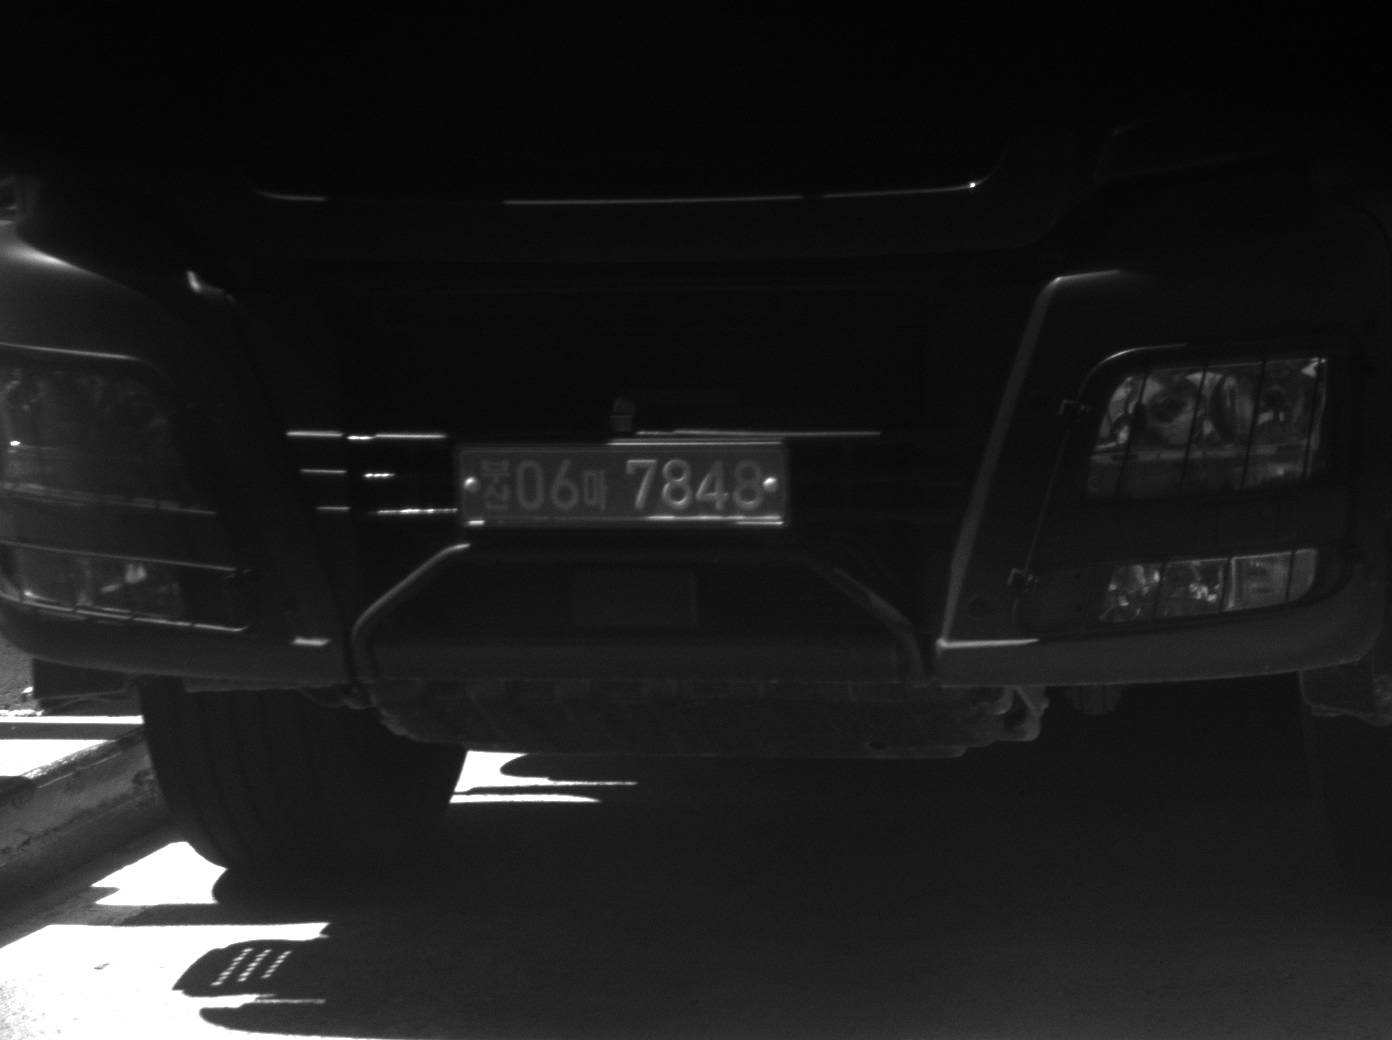car: (1, 1, 1387, 873)
plate: (457, 446, 790, 523)
